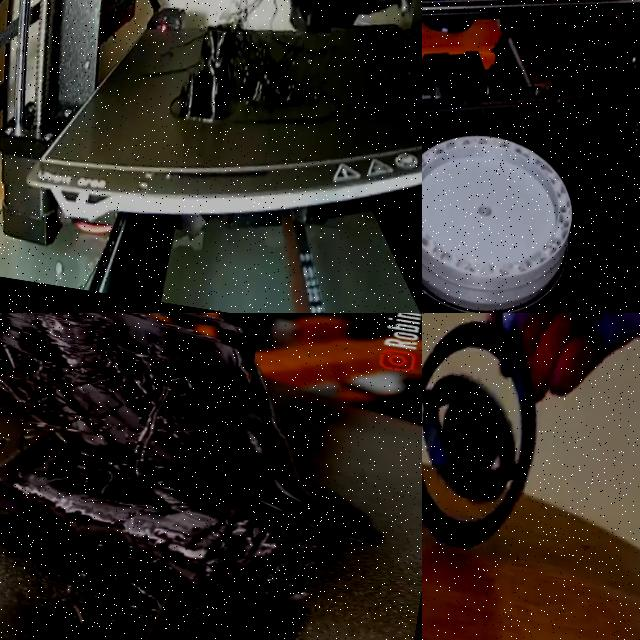spaghetti: (0, 313, 261, 640), (213, 0, 336, 111)
